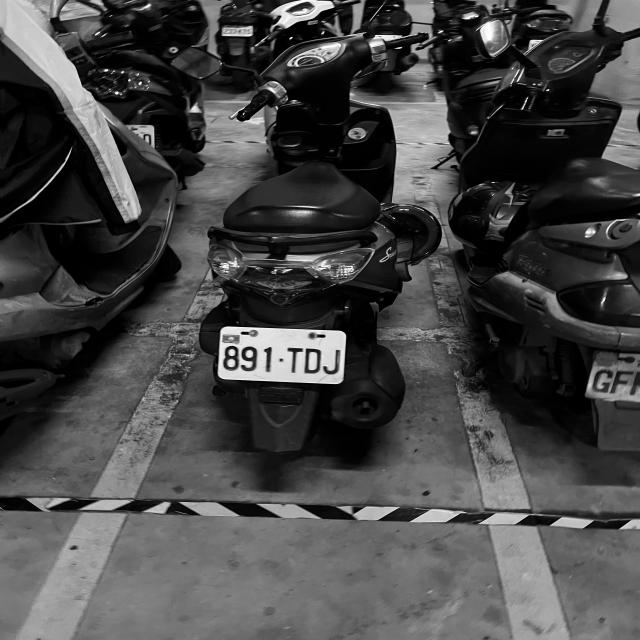-: (277, 356, 285, 363)
1: (262, 346, 272, 372)
8: (223, 344, 240, 370)
9: (241, 345, 257, 371)
D: (304, 347, 322, 373)
F: (608, 370, 635, 397)
G: (589, 367, 616, 394)
J: (322, 348, 343, 376)
T: (286, 346, 304, 372)
plate: (221, 325, 350, 385)
